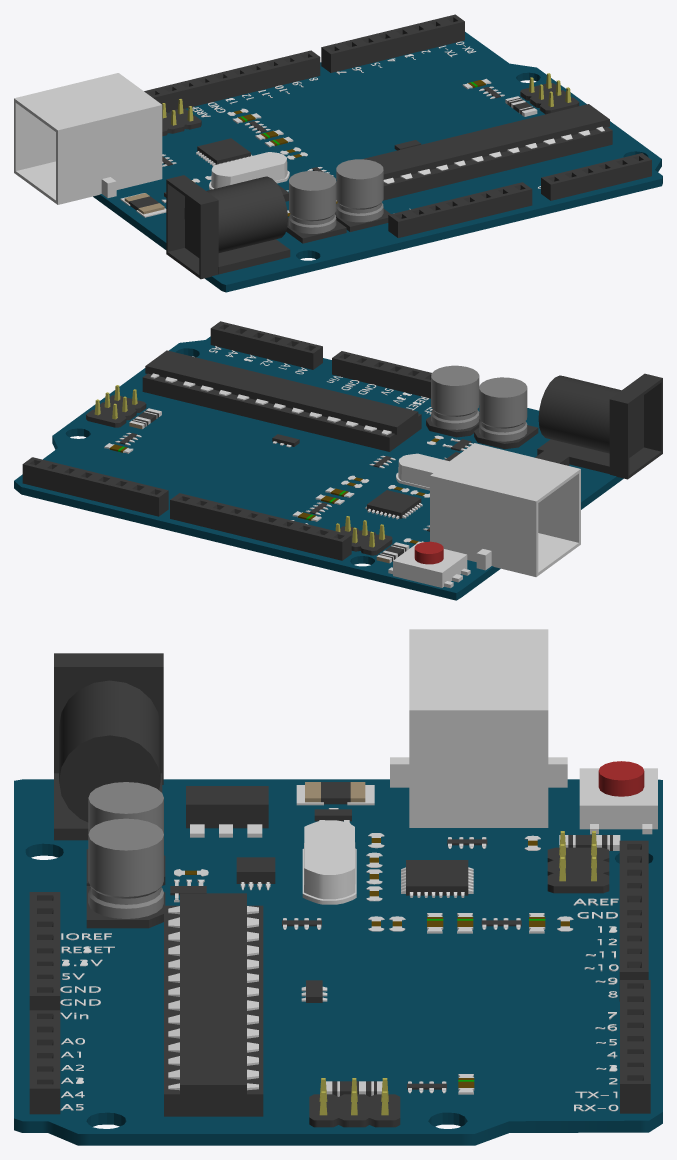
File: arduino.fbx
The picture shows the model from 3 angles, top to bottom: view 1: azimuth 30°, elevation 25°; view 2: azimuth 150°, elevation 25°; view 3: azimuth 270°, elevation 25°; orthographic projection. The views are drawn at different scales.
Parts seen in each view (by area): view 1: pasted__typeMesh44; view 2: pasted__typeMesh44; view 3: pasted__typeMesh44.
Part boxes in pixels (left/top/right/bottom): pasted__typeMesh44: left=14, top=14, right=662, bottom=292; pasted__typeMesh44: left=14, top=321, right=662, bottom=600; pasted__typeMesh44: left=14, top=629, right=662, bottom=1145.
Bounding box in the file's own units: 184 × 28.73 × 130.
